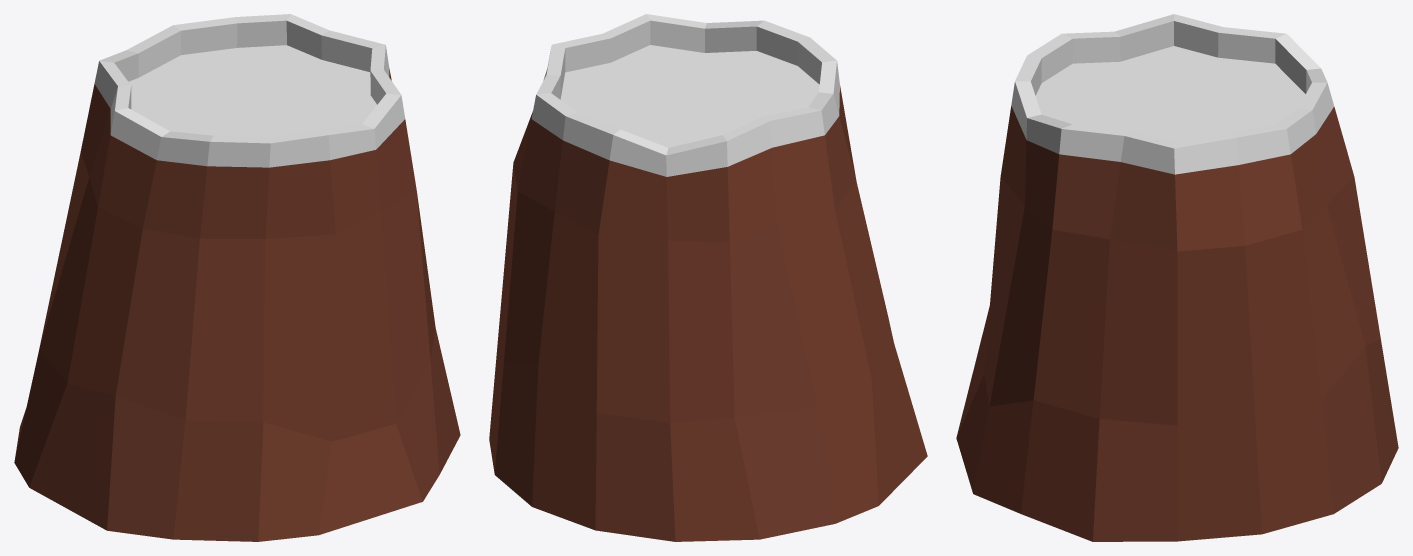
File: pine_trunk_type_3_extra_LOD0.fbx
3 renders of one model, left to right at view 1: azimuth 30°, elevation 25°; view 2: azimuth 150°, elevation 25°; view 3: azimuth 270°, elevation 25°, orthographic. The views are drawn at different scales.
Parts seen in each view (by area): view 1: pt_type_3.001; view 2: pt_type_3.001; view 3: pt_type_3.001.
Boxes of the visible parts, box(x1,y1,x2,y2) form: pt_type_3.001: box(14, 14, 460, 541); pt_type_3.001: box(489, 14, 927, 541); pt_type_3.001: box(956, 14, 1398, 541).
Bounding box in the file's own units: 201 × 188 × 200.
